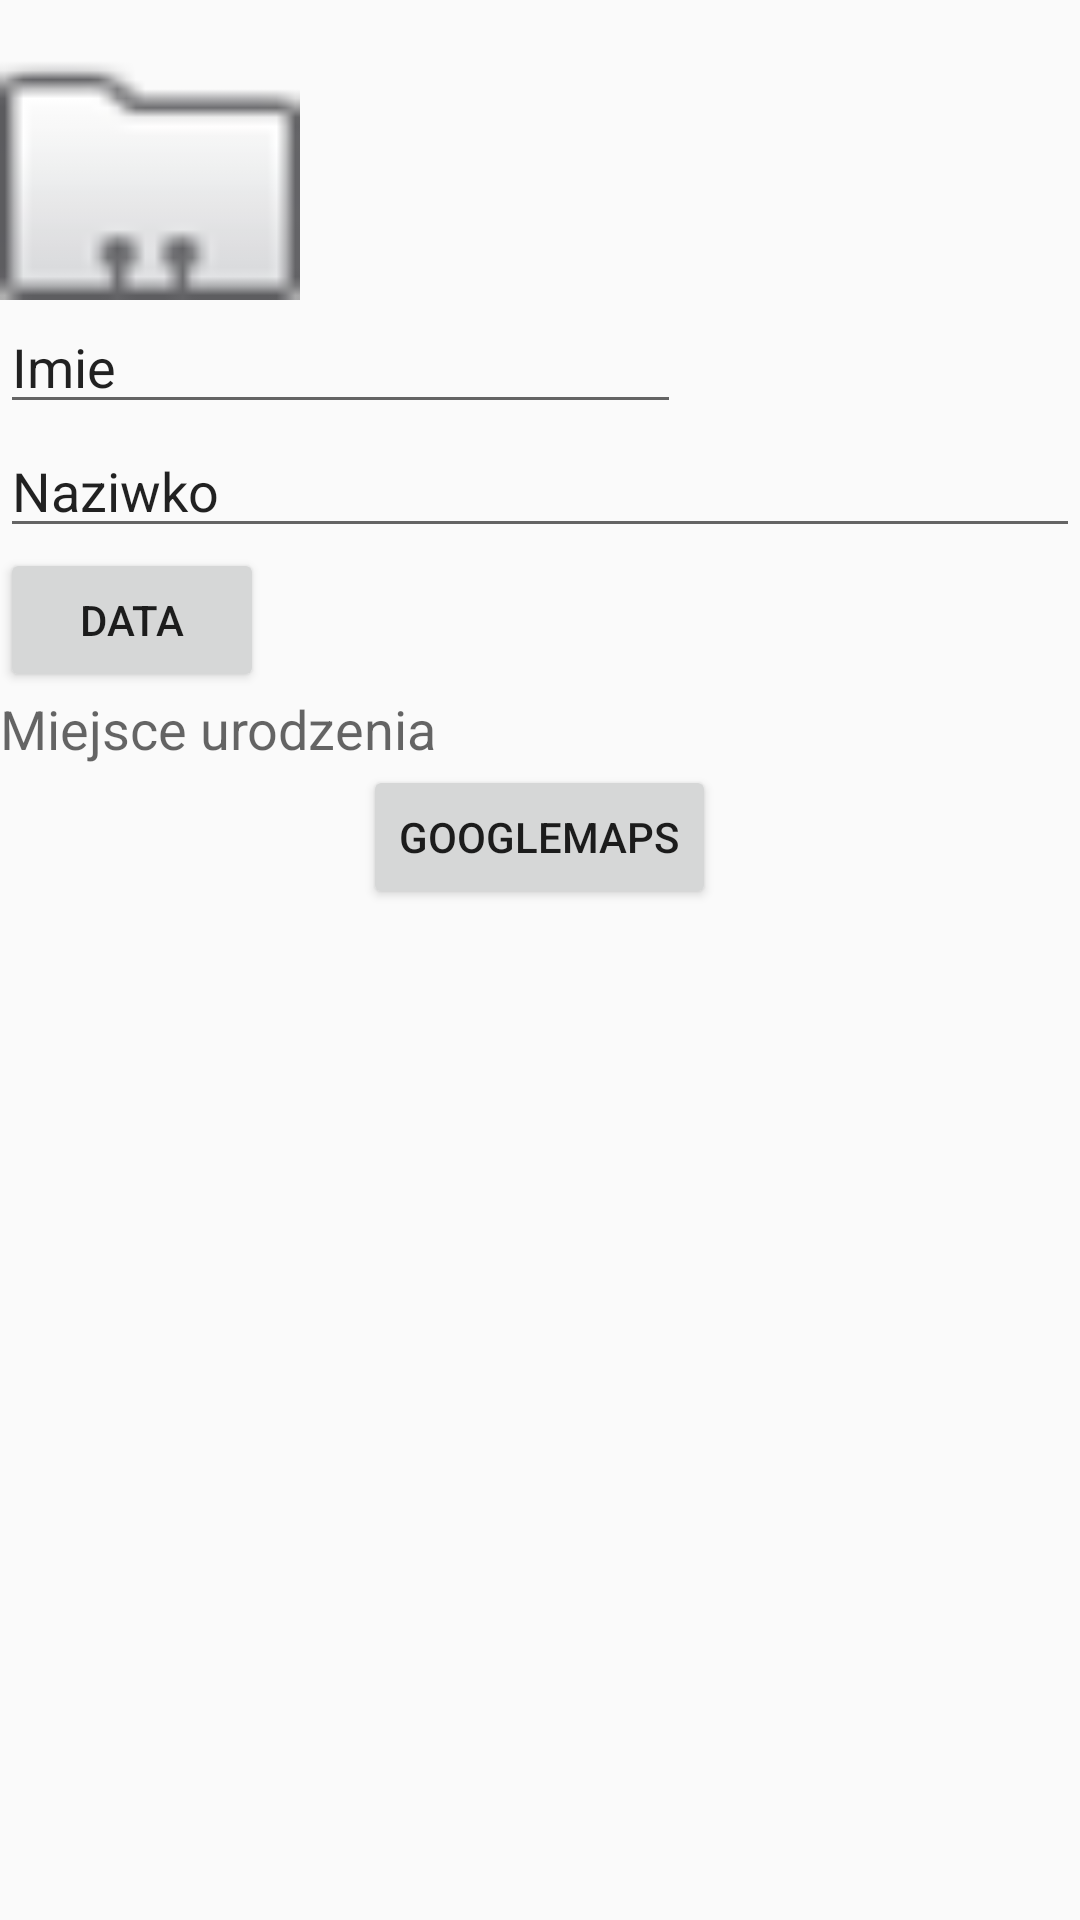

Icon click points for this 1080x1920 phone screenshot, format (x,y):
sym contact card: (150,181)
